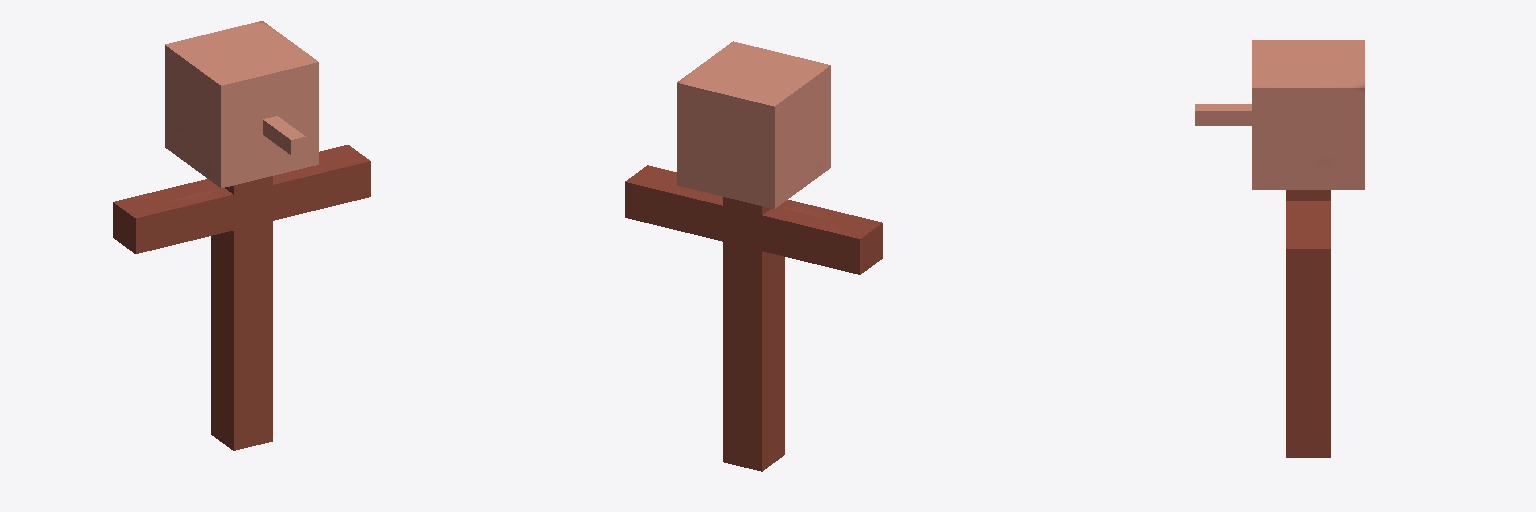
3 renders of one model, left to right at view 1: azimuth 30°, elevation 25°; view 2: azimuth 150°, elevation 25°; view 3: azimuth 270°, elevation 25°, orthographic.
Visible parts, largest first — view 1: Dummy_立方体; view 2: Dummy_立方体; view 3: Dummy_立方体.
Part boxes in pixels (x1,y1,x2,y2): Dummy_立方体: (113,21,370,450); Dummy_立方体: (625,41,882,471); Dummy_立方体: (1195,40,1364,457).
Size of the model in its own units: 1.8 by 2.81 by 1.12.
Materials: 1 (1 with a texture image).